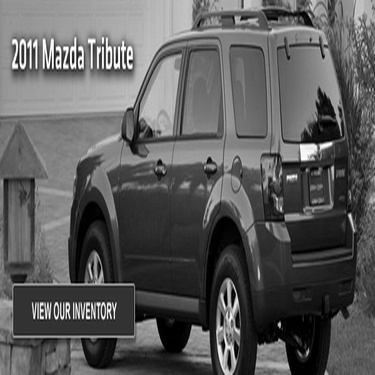car: (71, 12, 360, 358)
